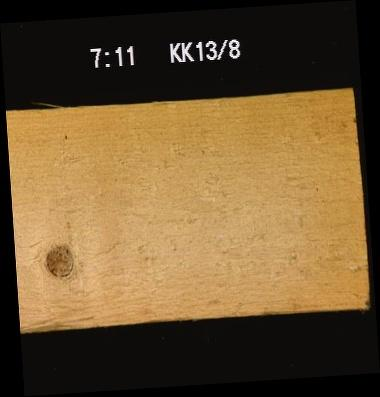dry_knot: (43, 241, 75, 278)
